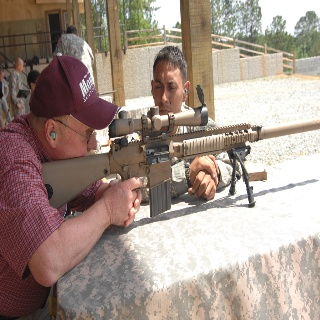rifle: (37, 84, 320, 220)
